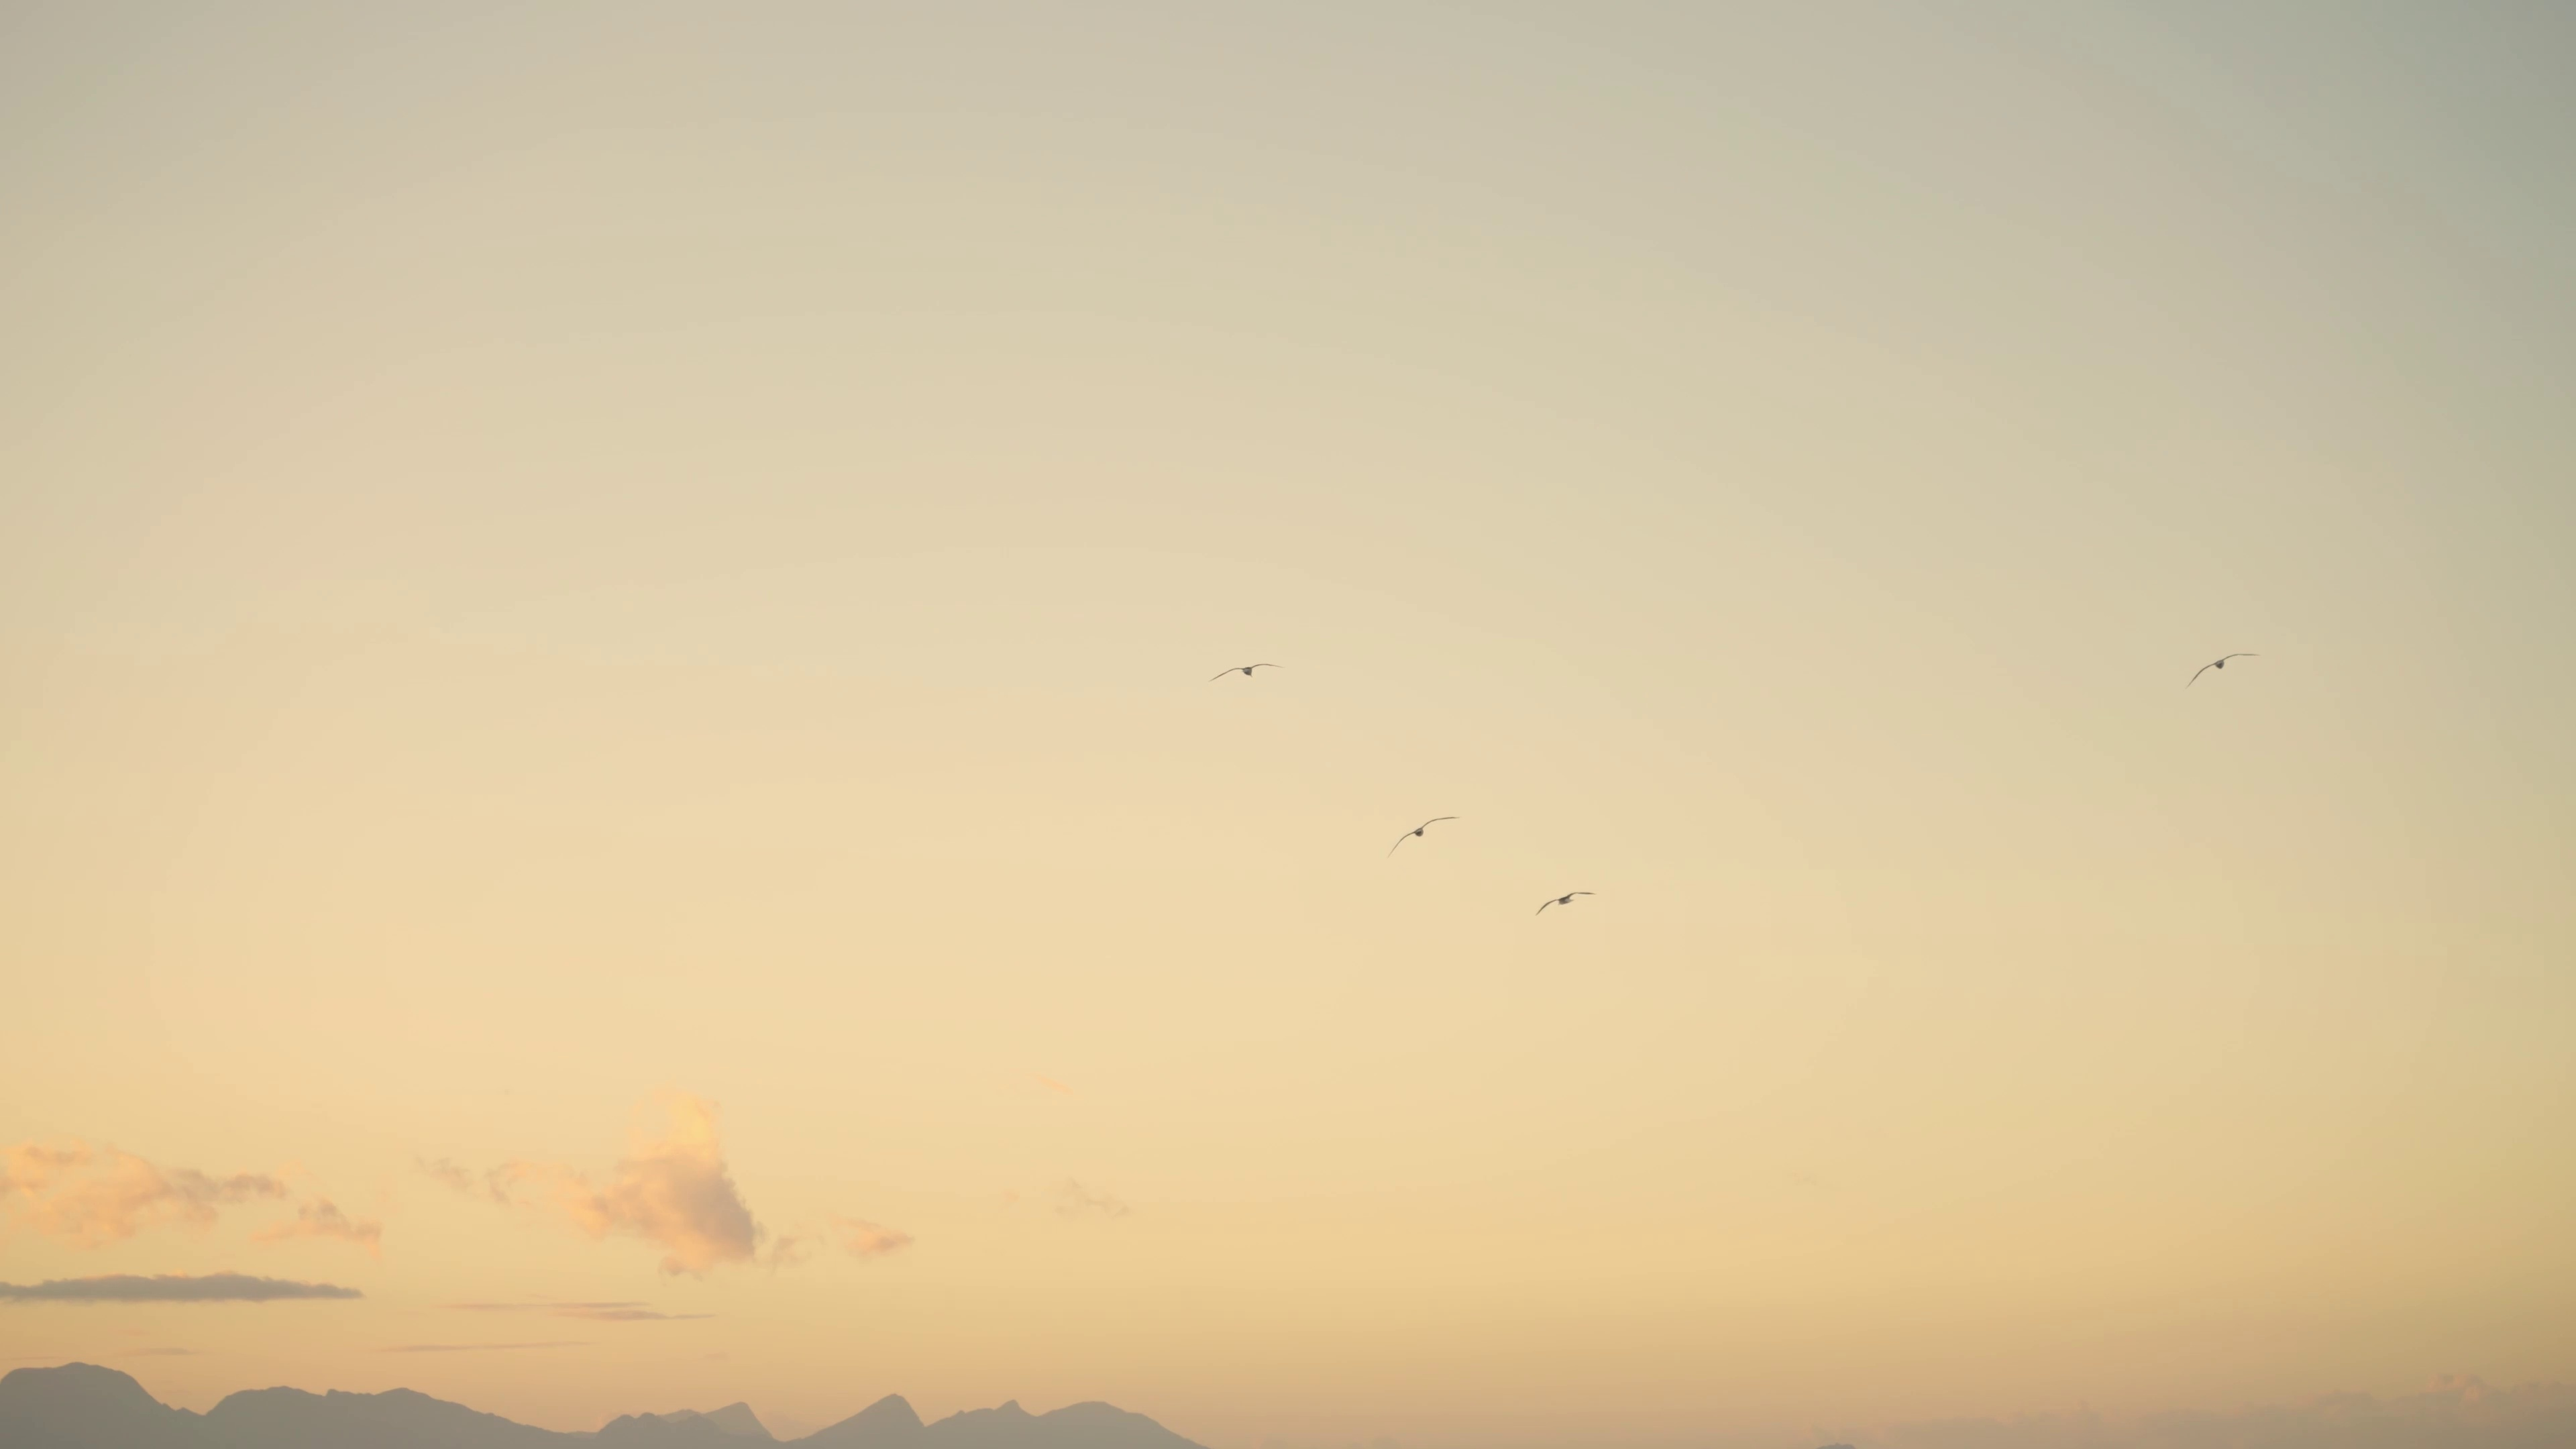bird: (1391, 816, 1461, 858), (2185, 653, 2259, 685), (1536, 890, 1596, 916), (1210, 663, 1281, 679)
